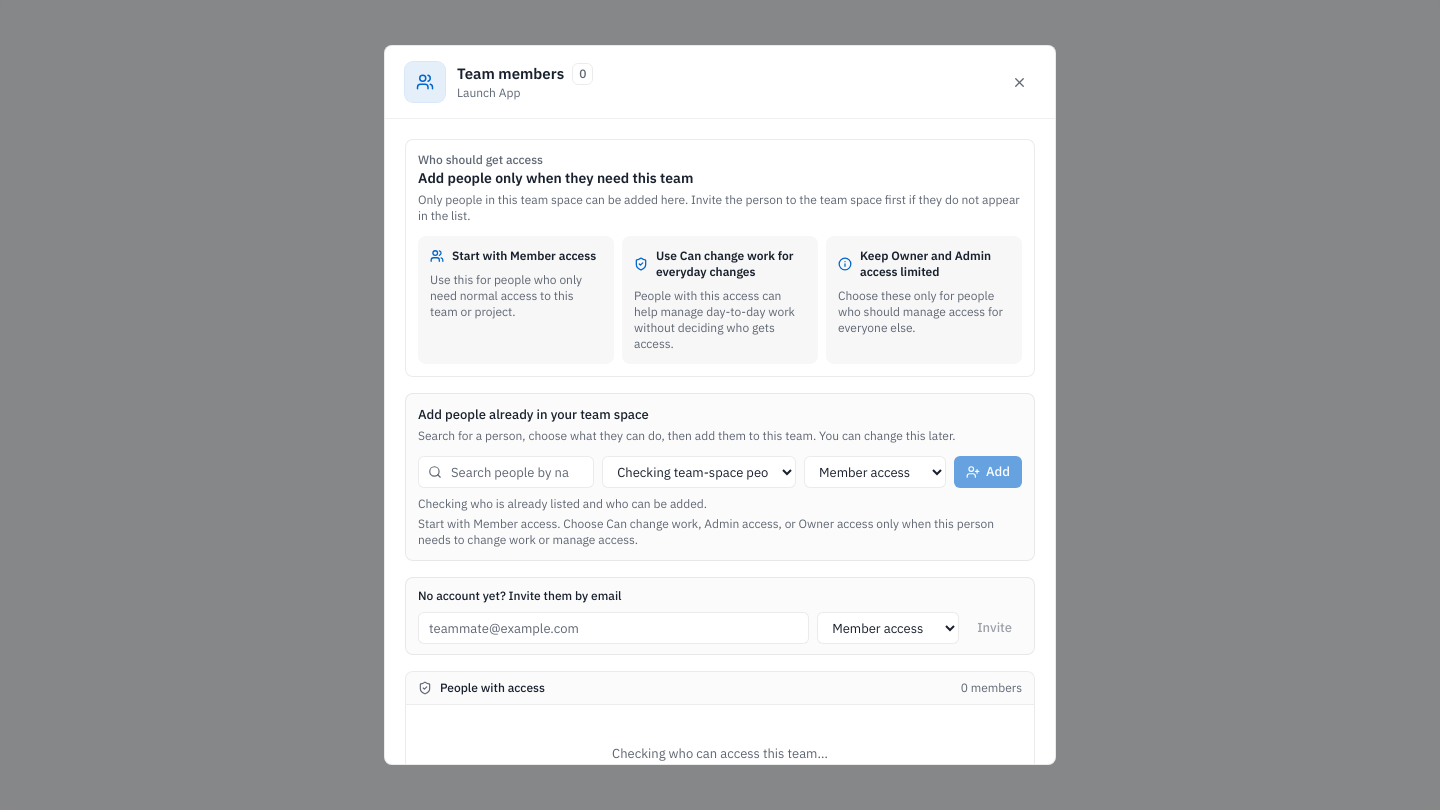
Test: ResourceMembersModal › invites a person by email and shows the shareable link
Type "new@example.com" into the field named "Invite email" at point(614, 628), box [418,612,809,644]
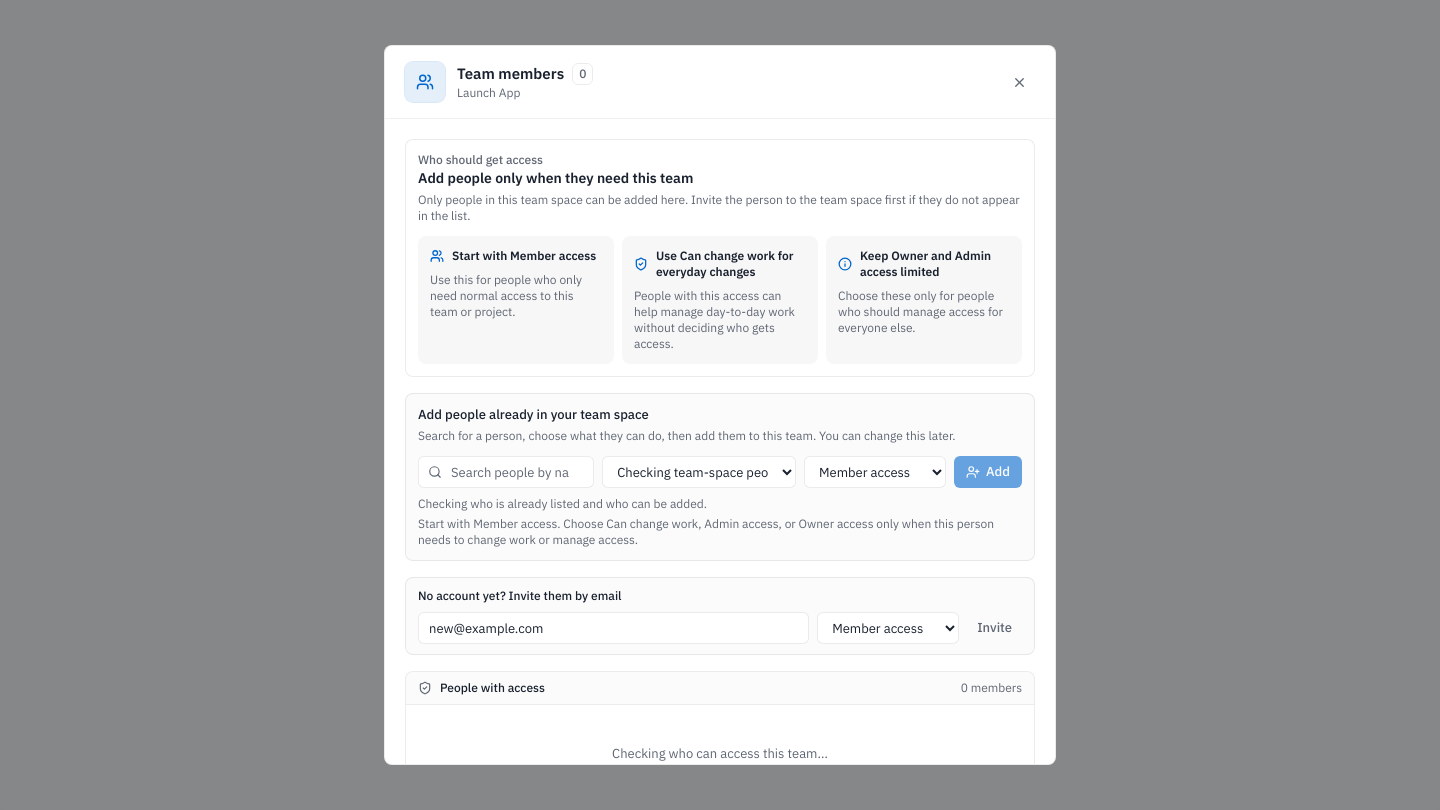
Click the button with test id "member-invite-button" at point(995, 628), box [967,612,1022,644]
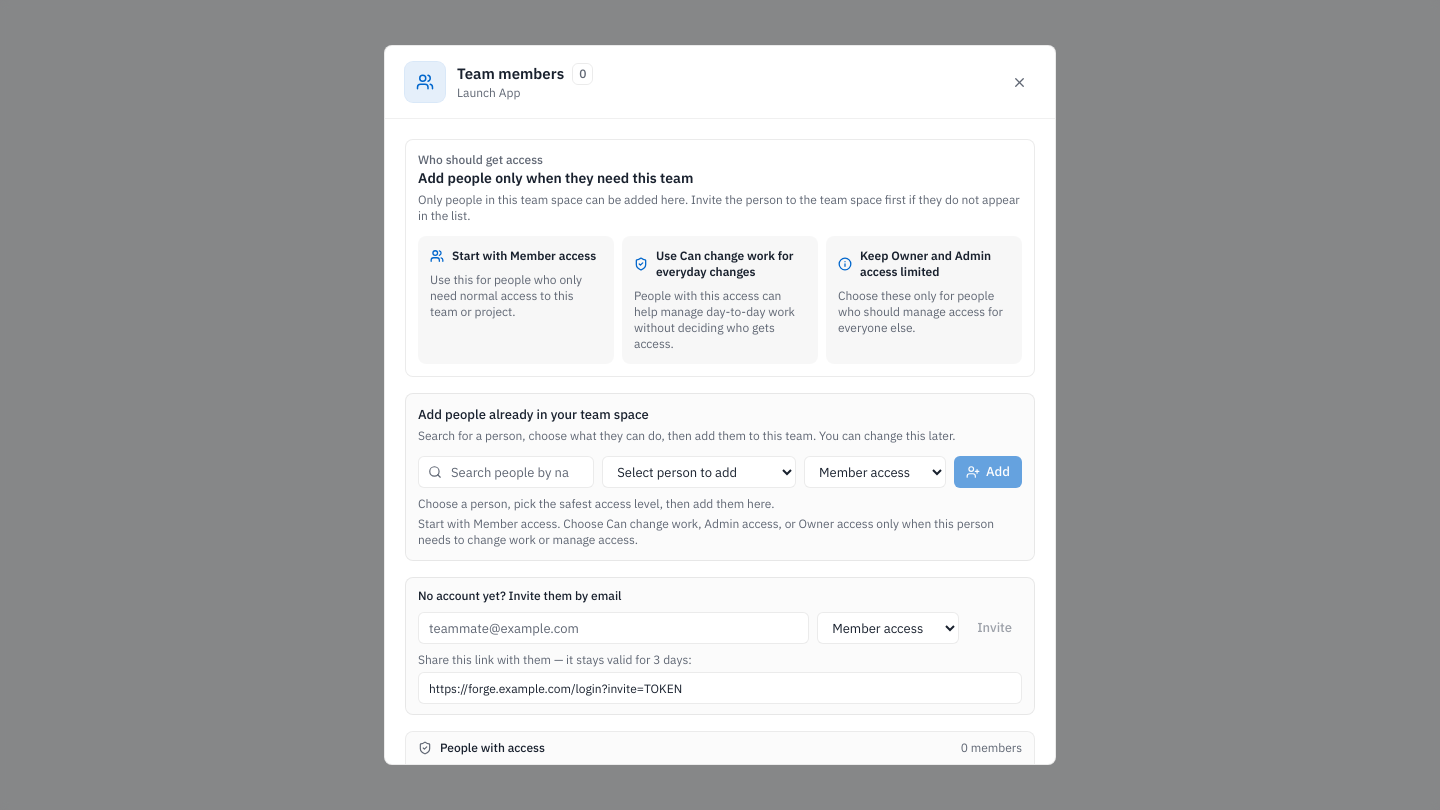
Check: the text "Share this link with them — it stays valid for 3 days:" is shown, box [418,652,692,667]
Check: the field named "Invite link" holds "https://forge.example.com/login?invite=TOKEN", box [418,672,1022,704]
